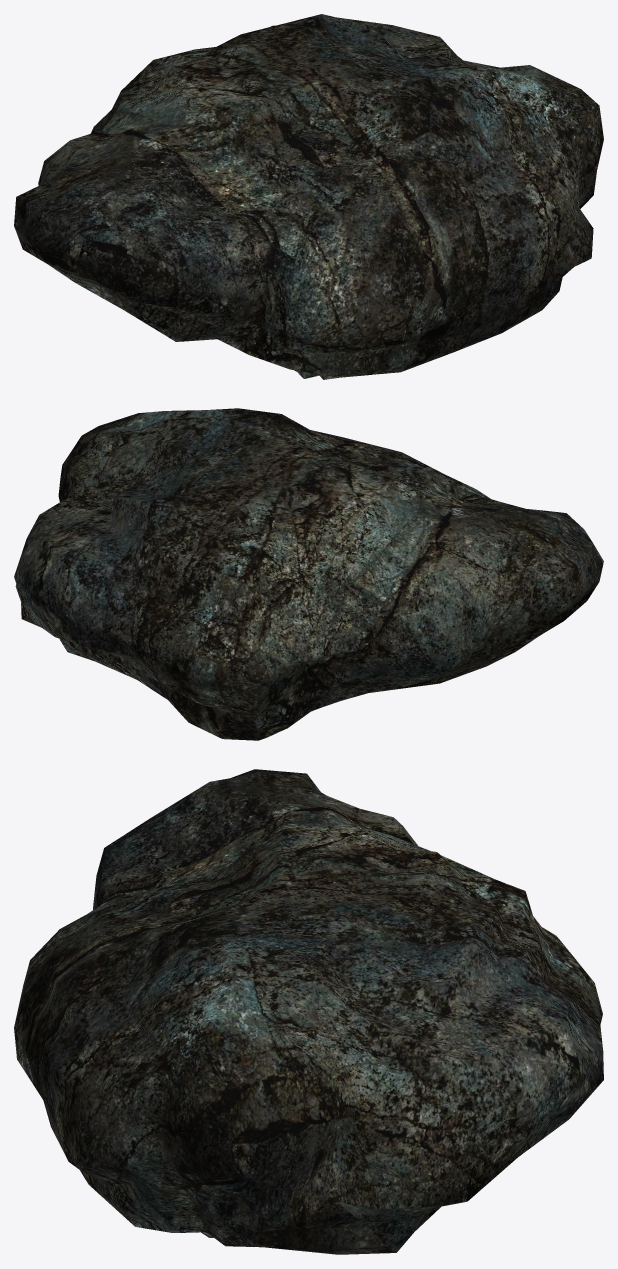
The model's file is tunnel_theta_rock01.dae.
3 views of the same model, one above another, from view 1: azimuth 30°, elevation 25°; view 2: azimuth 150°, elevation 25°; view 3: azimuth 270°, elevation 25° (orthographic). The views are drawn at different scales.
Visible parts, largest first — view 1: rock01; view 2: rock01; view 3: rock01.
Boxes of the visible parts, <box> form: rock01: <box>14,14,603,379</box>; rock01: <box>14,408,603,740</box>; rock01: <box>14,769,603,1254</box>.
Bounding box in the file's own units: 3.49 × 1.57 × 2.71.
